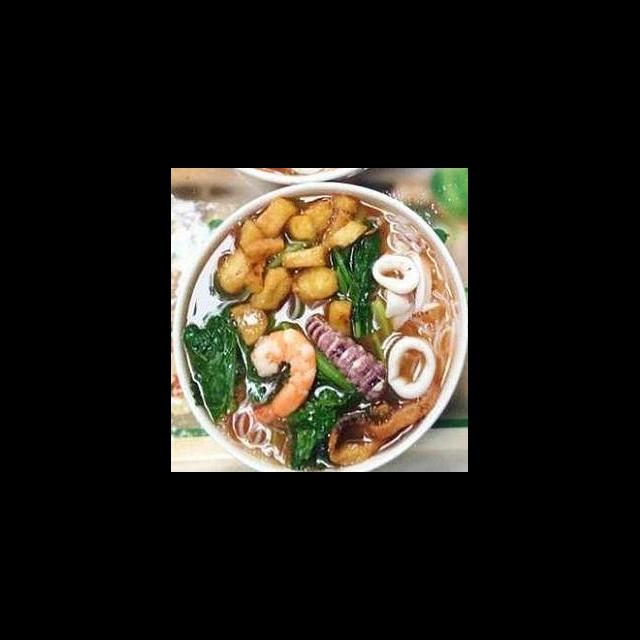bun: (228, 409, 278, 458), (379, 207, 428, 257)
bun hai san: (187, 190, 468, 457)
ca: (324, 398, 396, 467)
dau hu: (212, 191, 372, 317), (228, 300, 270, 348), (324, 294, 356, 337)
muc: (386, 333, 440, 403), (369, 250, 424, 298)
tom: (242, 325, 322, 427)
tom tit: (302, 312, 396, 406)
